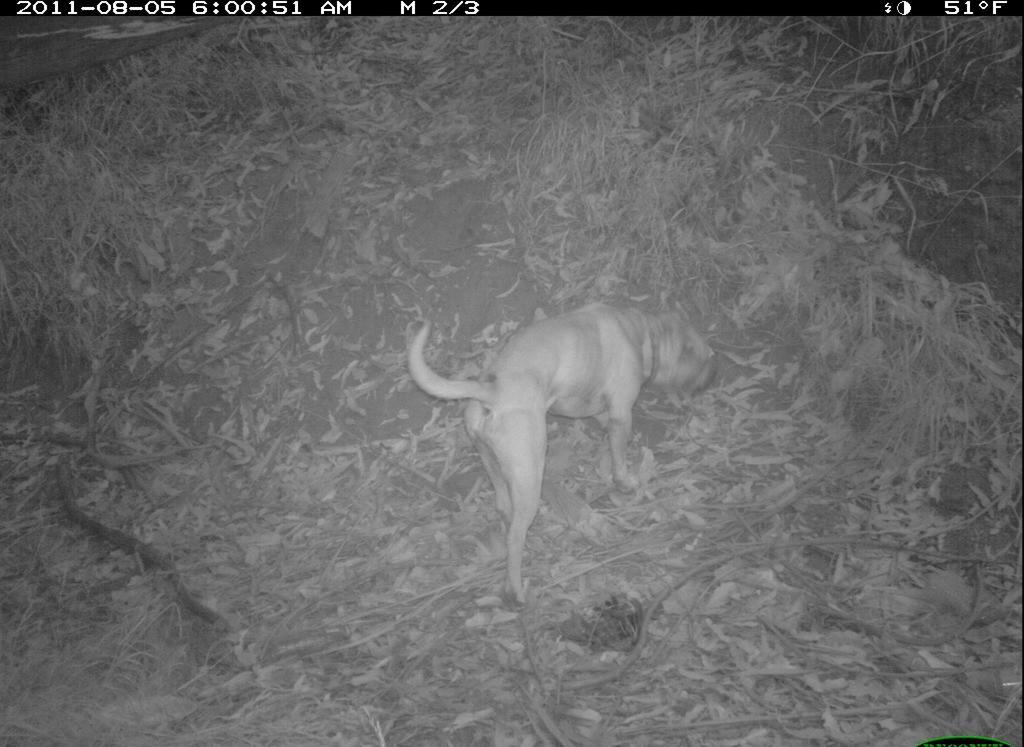dog: (406, 292, 726, 611)
